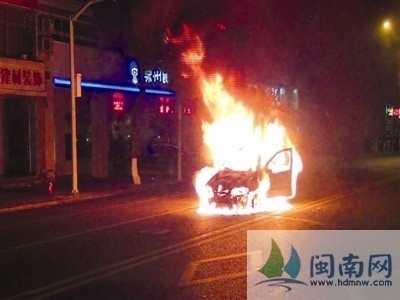fire: (194, 68, 301, 211), (169, 25, 206, 68)
